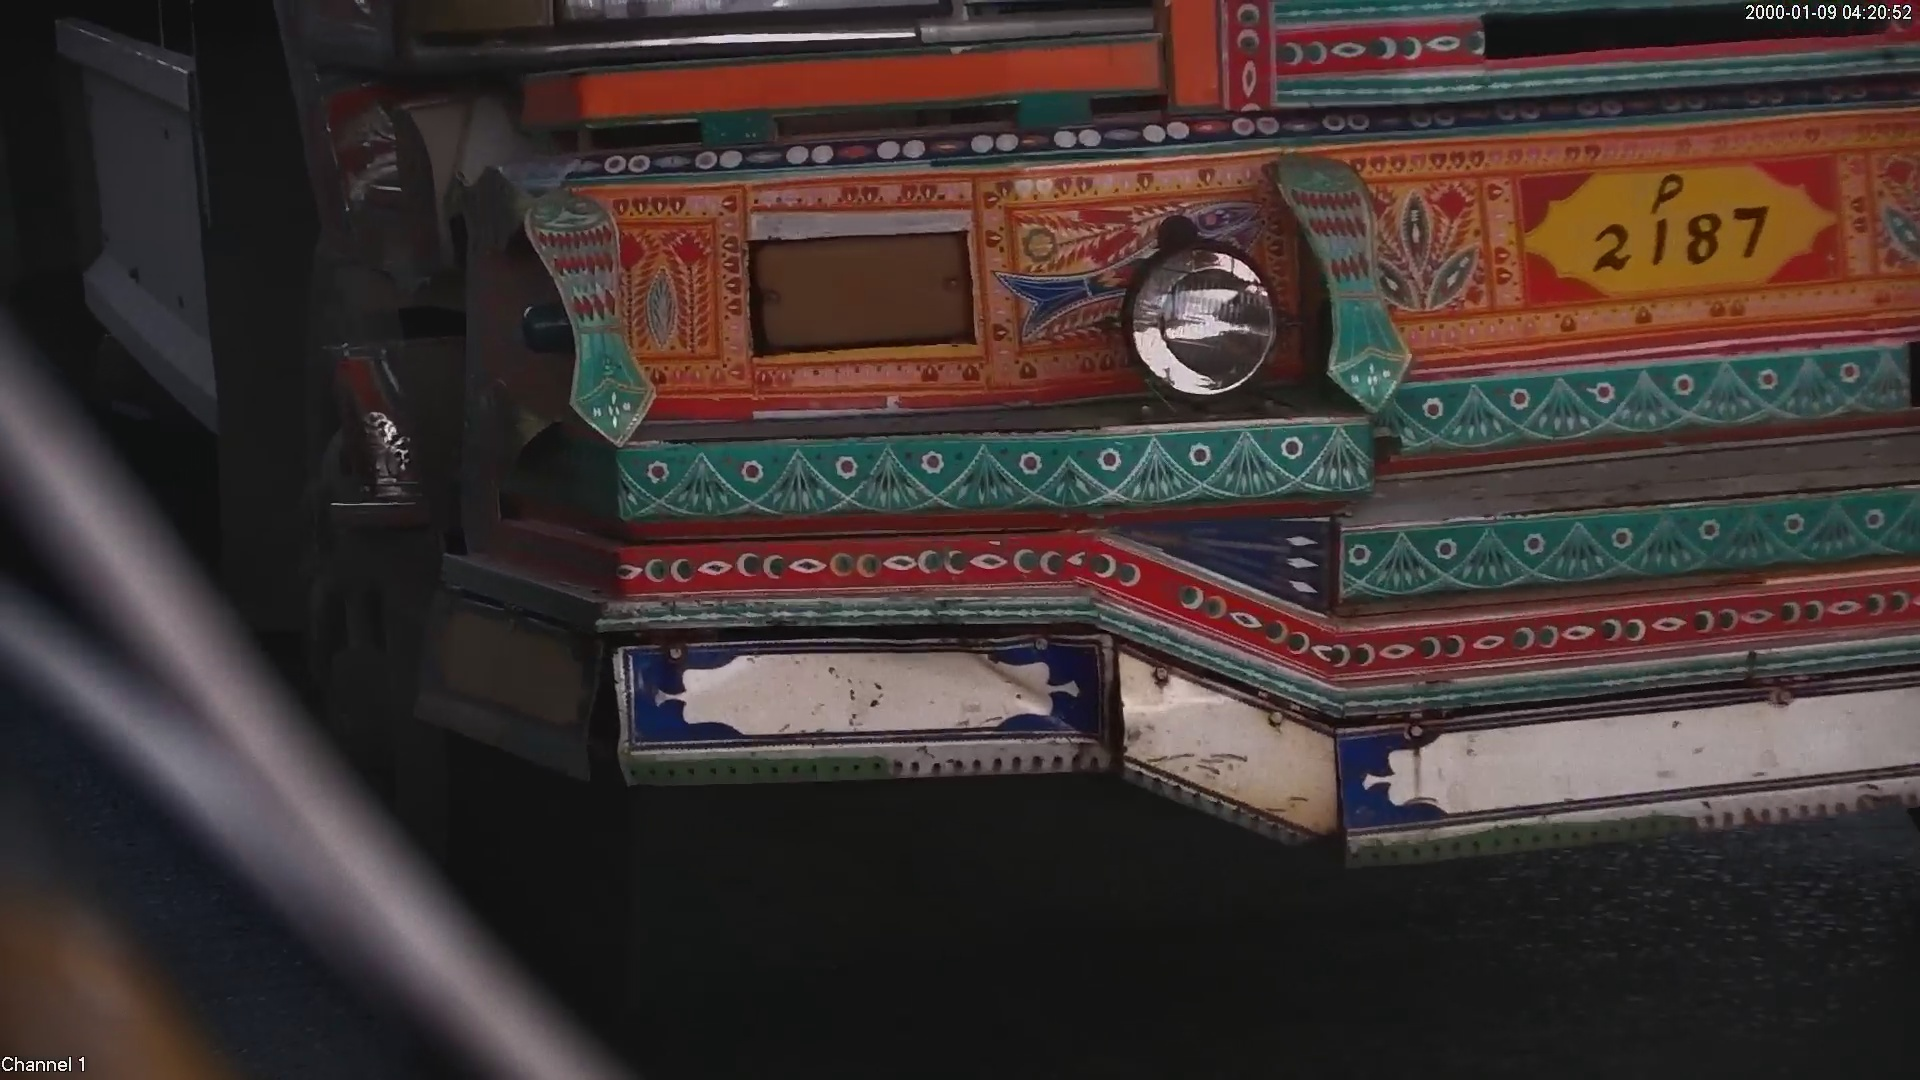Number_Plate: (1500, 138, 1887, 314)
Undefined: (613, 216, 1310, 449), (626, 640, 1121, 779)
